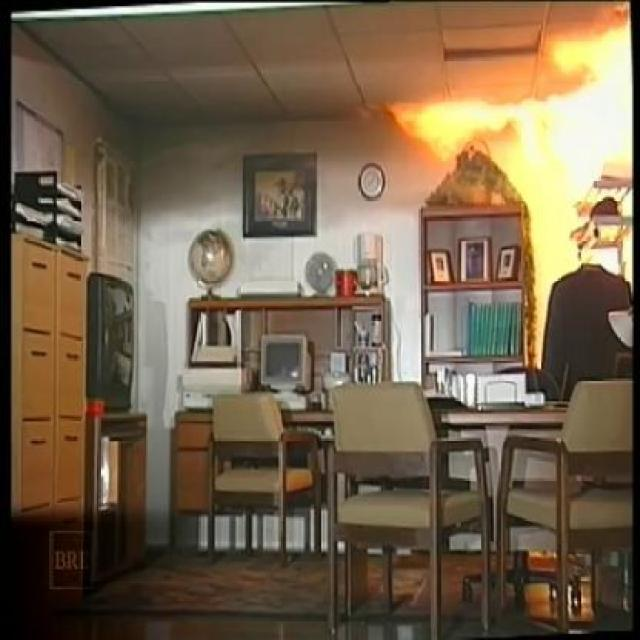fire: (394, 22, 640, 164)
